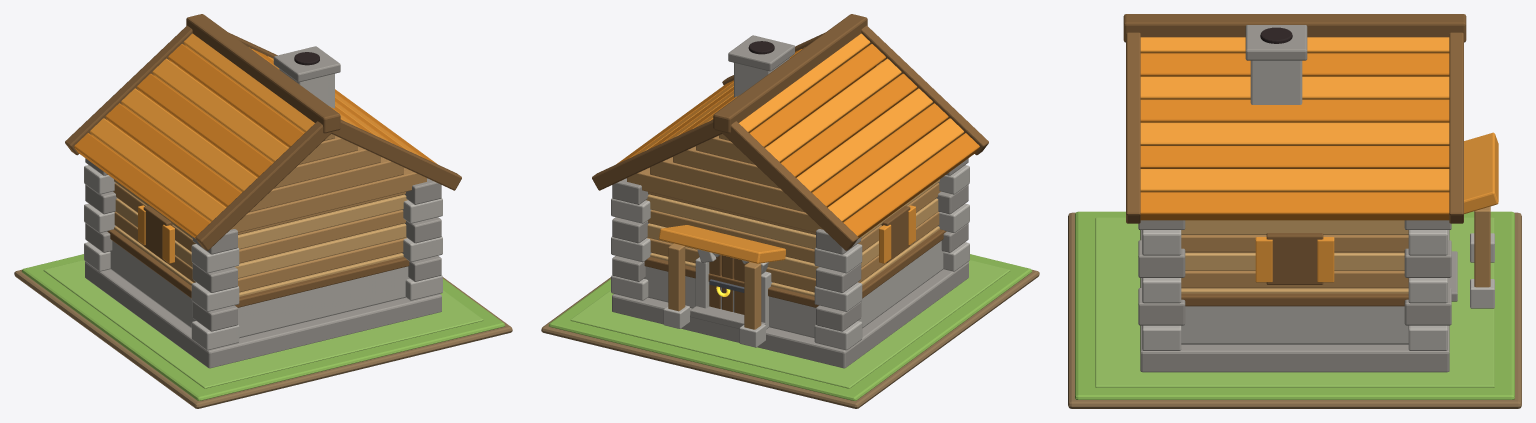
The model's file is town_hall_lv2.glb.
3 renders of one model, left to right at view 1: azimuth 30°, elevation 25°; view 2: azimuth 150°, elevation 25°; view 3: azimuth 270°, elevation 25°, orthographic. The views are drawn at different scales.
Parts seen in each view (by area): view 1: Base_Inner, StoneFoundation, StoneWainscot, Base_Grass, Base_Dirt, RidgeBeam, RoofSlope_-1_7, Gable_-1_0, RoofSlope_-1_2, RoofSlope_-1_4, RoofSlope_-1_5, RoofSlope_-1_6 (+38 smaller); view 2: Base_Inner, Base_Grass, StoneFoundation, StoneWainscot, Base_Dirt, RidgeBeam, RoofSlope_-1_7, Gable_1_0, RoofSlope_-1_2, RoofSlope_-1_4, RoofSlope_-1_5, RoofSlope_-1_6 (+50 smaller); view 3: Base_Inner, Base_Grass, RoofSlope_1_7, StoneWainscot, StoneFoundation, RoofSlope_1_4, RoofSlope_1_6, RidgeBeam, RoofSlope_1_3, RoofSlope_1_5, Base_Dirt, RoofSlope_1_2 (+31 smaller).
Part boxes in pixels (x1,y1,x2,y2): Base_Inner: (43, 260, 483, 388); StoneFoundation: (85, 261, 441, 368); StoneWainscot: (110, 241, 409, 338); Base_Grass: (21, 254, 505, 400); Base_Dirt: (14, 269, 512, 408); RidgeBeam: (186, 14, 340, 133); RoofSlope_-1_7: (74, 133, 210, 238); Gable_-1_0: (231, 169, 426, 232); RoofSlope_-1_2: (152, 58, 288, 162); RoofSlope_-1_4: (121, 88, 257, 192); RoofSlope_-1_5: (105, 103, 241, 207); RoofSlope_-1_6: (90, 118, 226, 222); Base_Inner: (570, 260, 1010, 388); Base_Grass: (548, 254, 1032, 400); StoneFoundation: (612, 261, 968, 368); StoneWainscot: (644, 241, 943, 338); Base_Dirt: (541, 269, 1039, 408); RidgeBeam: (713, 14, 867, 133); RoofSlope_-1_7: (843, 133, 979, 238); Gable_1_0: (627, 169, 822, 232); RoofSlope_-1_2: (765, 58, 901, 162); RoofSlope_-1_4: (796, 88, 932, 192); RoofSlope_-1_5: (812, 103, 948, 207); RoofSlope_-1_6: (827, 118, 963, 222); Base_Inner: (1095, 217, 1494, 387); Base_Grass: (1075, 211, 1514, 399); RoofSlope_1_7: (1140, 192, 1449, 220); StoneWainscot: (1181, 306, 1408, 344); StoneFoundation: (1140, 230, 1449, 372); RoofSlope_1_4: (1140, 122, 1449, 145); RoofSlope_1_6: (1140, 169, 1449, 192); RidgeBeam: (1123, 14, 1466, 42); RoofSlope_1_3: (1140, 99, 1449, 122); RoofSlope_1_5: (1140, 146, 1449, 168); Base_Dirt: (1068, 212, 1521, 408); RoofSlope_1_2: (1140, 76, 1449, 99).
Bounding box in the file's own units: 3.68 × 2.71 × 3.68.
